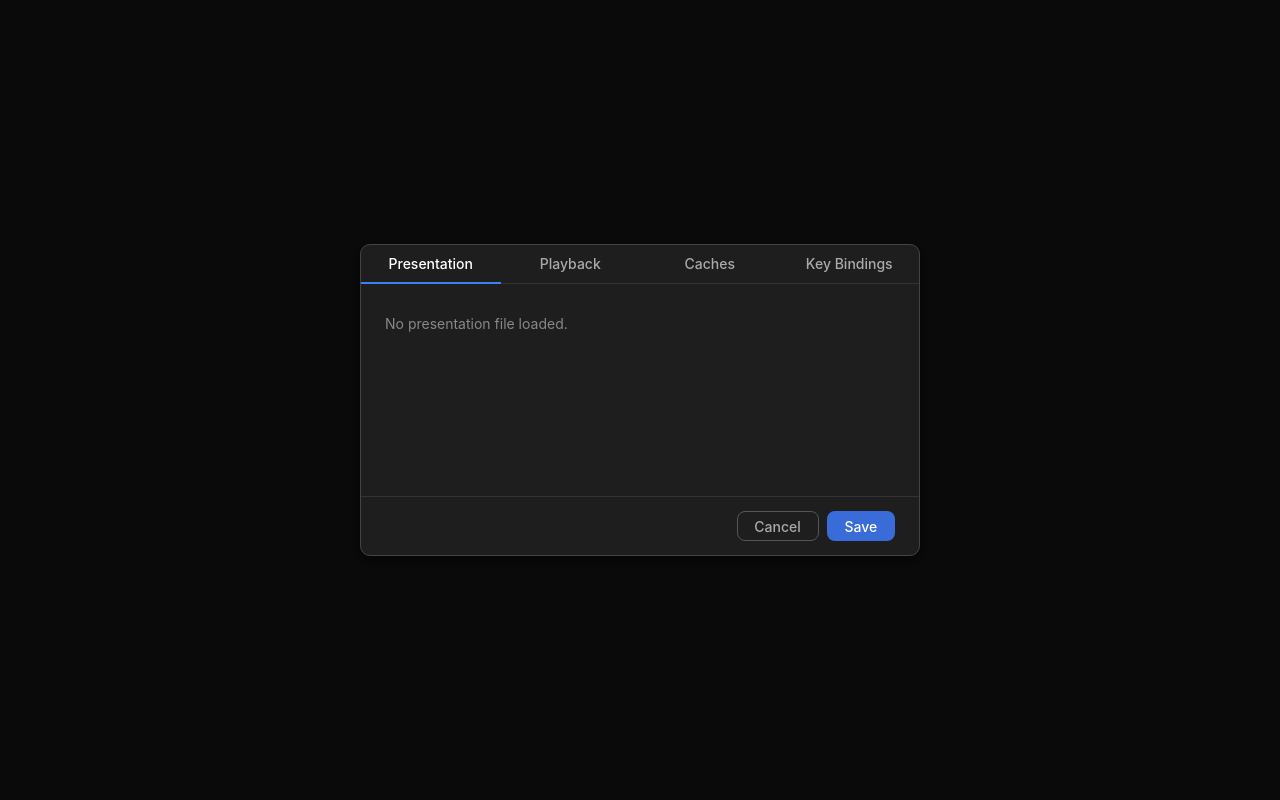
Test case: SettingsDialog — Playback tab › shows the fullscreen checkbox with its current value
This screenshot has width=1280, height=800.
Click the button "Playback".
click(570, 264)  # box left=500, top=244, right=640, bottom=284
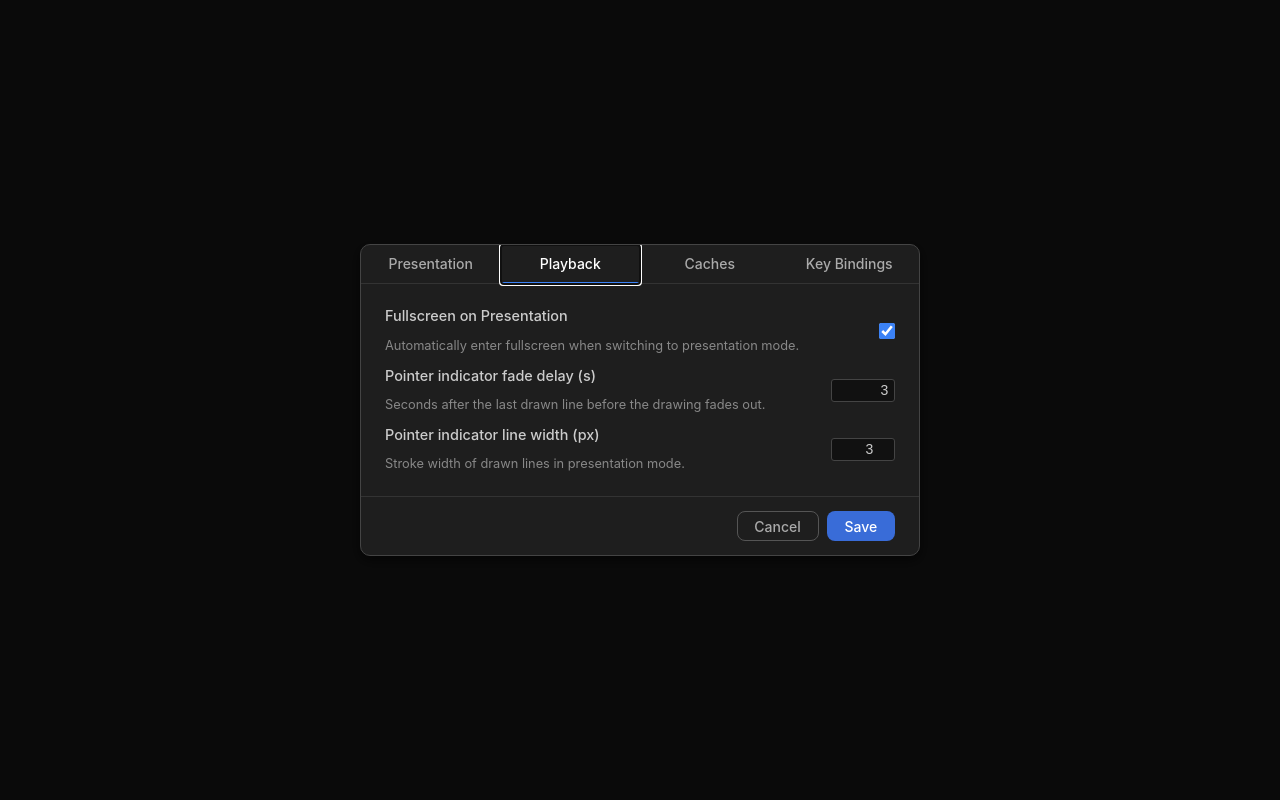
expect the checkbox labelled "Fullscreen on Presentation" is checked: met, box left=879, top=323, right=895, bottom=339
